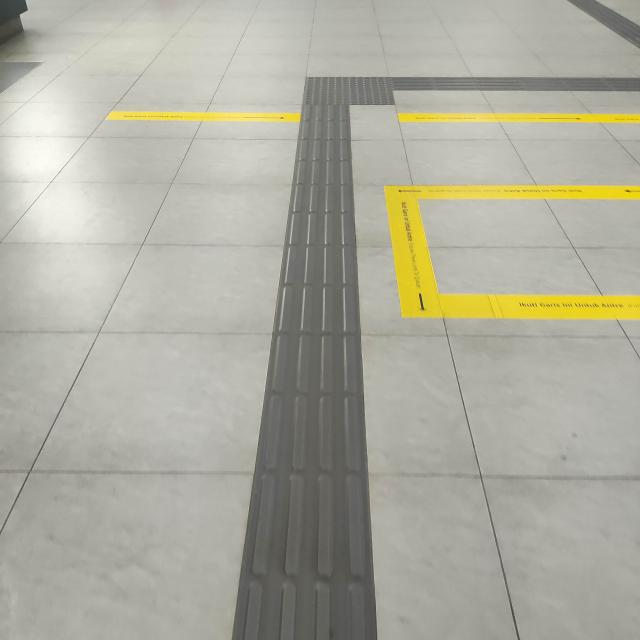kanan: (266, 59, 478, 121)
